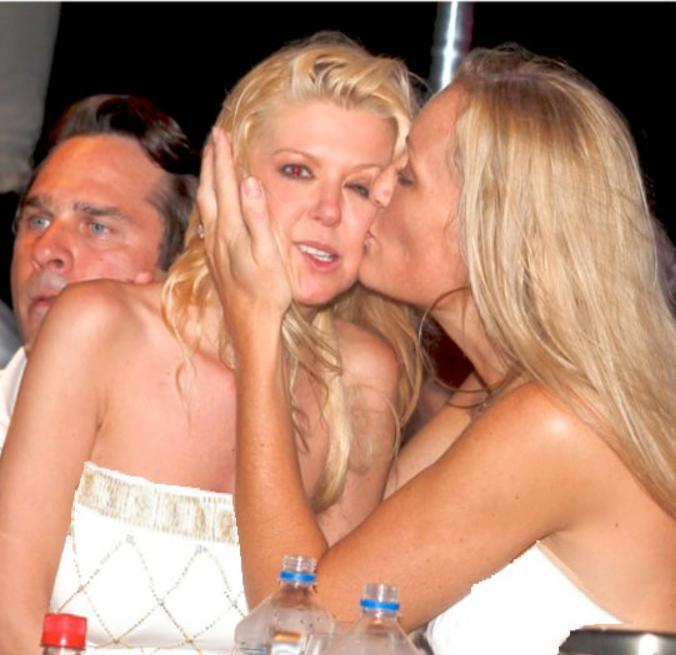Drunk: (13, 127, 169, 347), (245, 86, 379, 306)
